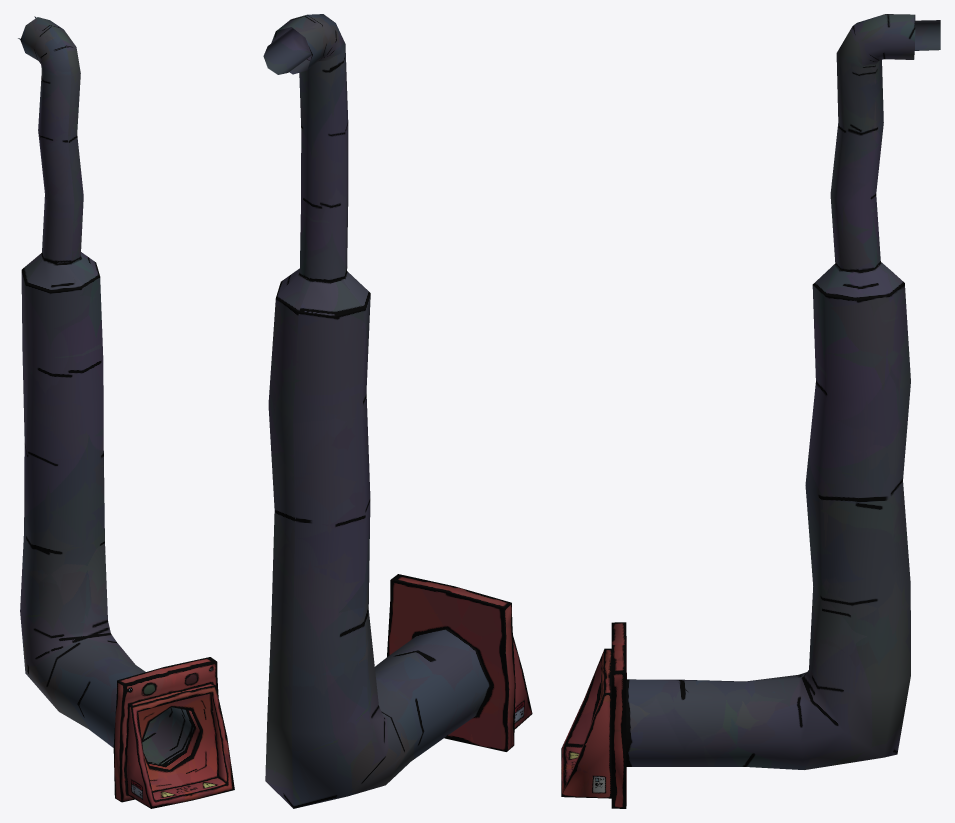
File: TrashChute.glb
The picture shows the model from 3 angles, left to right: view 1: azimuth 30°, elevation 25°; view 2: azimuth 150°, elevation 25°; view 3: azimuth 270°, elevation 25°; orthographic projection. The views are drawn at different scales.
Visible parts, largest first — view 1: TrashChute; view 2: TrashChute; view 3: TrashChute.
Part boxes in pixels (left/top/right/bottom): TrashChute: left=18, top=16, right=234, bottom=808; TrashChute: left=263, top=14, right=532, bottom=808; TrashChute: left=561, top=14, right=940, bottom=808.
Size of the model in its own units: 7.49 by 48.55 by 21.72.
1 material, 1 textured.
